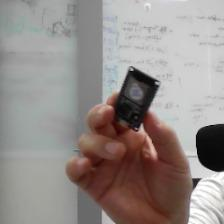esp32: (112, 64, 164, 136)
